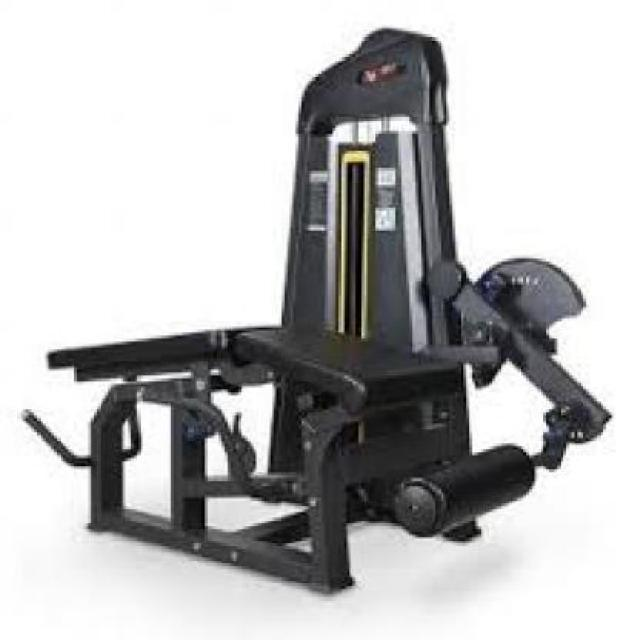reg curl machine: (23, 28, 614, 598)
